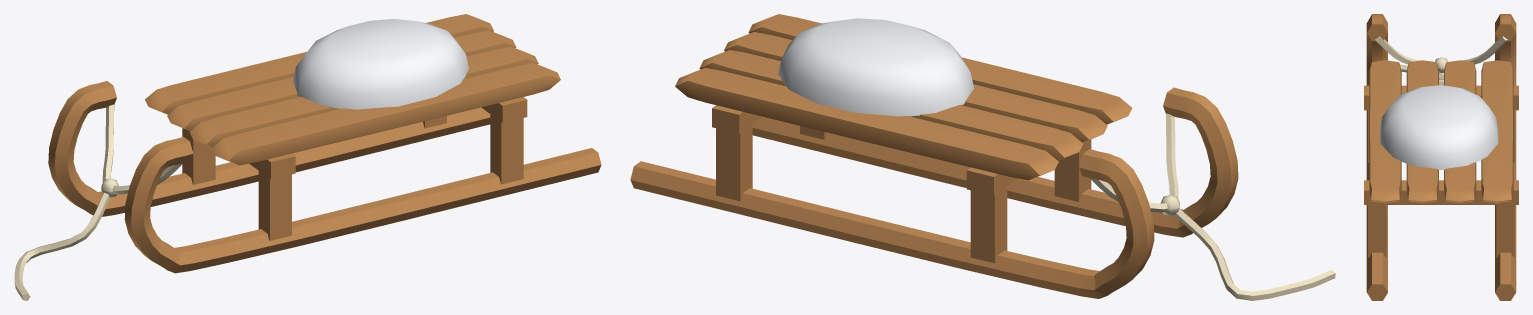
The model's file is WoodenSled.obj.
3 views of the same model, side by side, from view 1: azimuth 30°, elevation 25°; view 2: azimuth 150°, elevation 25°; view 3: azimuth 270°, elevation 25° (orthographic). The views are drawn at different scales.
Visible parts, largest first — view 1: WoodenSled; view 2: WoodenSled; view 3: WoodenSled.
Part boxes in pixels (left/top/right/bottom): WoodenSled: left=14, top=14, right=601, bottom=300; WoodenSled: left=630, top=14, right=1335, bottom=300; WoodenSled: left=1364, top=14, right=1518, bottom=300.
Size of the model in its own units: 10.26 by 2.61 by 2.9.
Materials: 1 (1 with a texture image).
